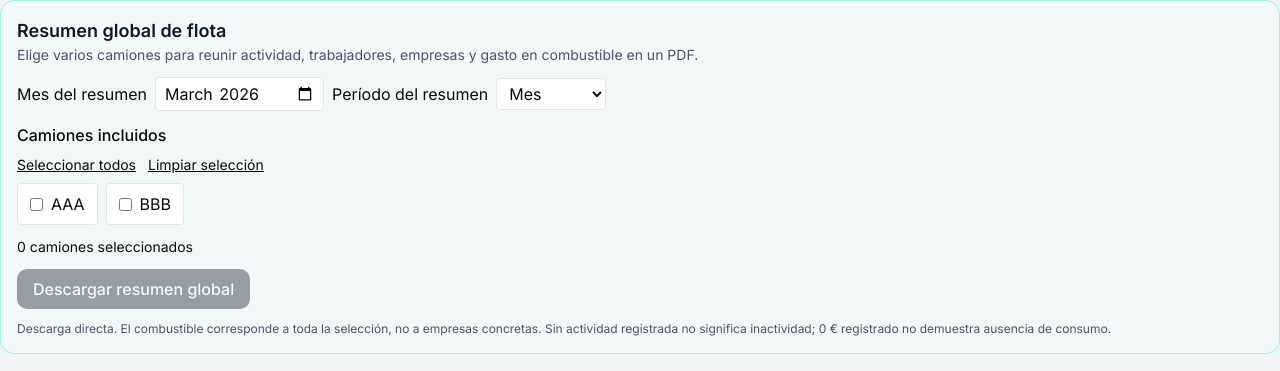
selects trucks independently, clears and generates repeated truck query parameters
This screenshot has width=1280, height=371.
Expected: the button "Descargar resumen global" is disabled, [17, 269, 250, 309]
Click the checkbox labelled "AAA".
click(36, 204)  # box [30, 198, 43, 210]
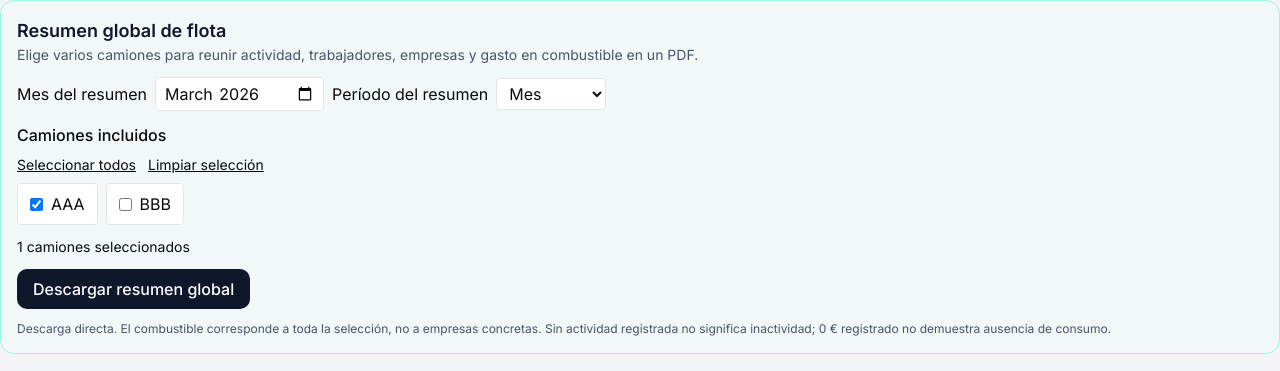
Result: the text "1 camiones seleccionados" is shown at [17, 238, 190, 255]
Click the button "Seleccionar todos".
click(76, 165)  # box [17, 155, 136, 175]
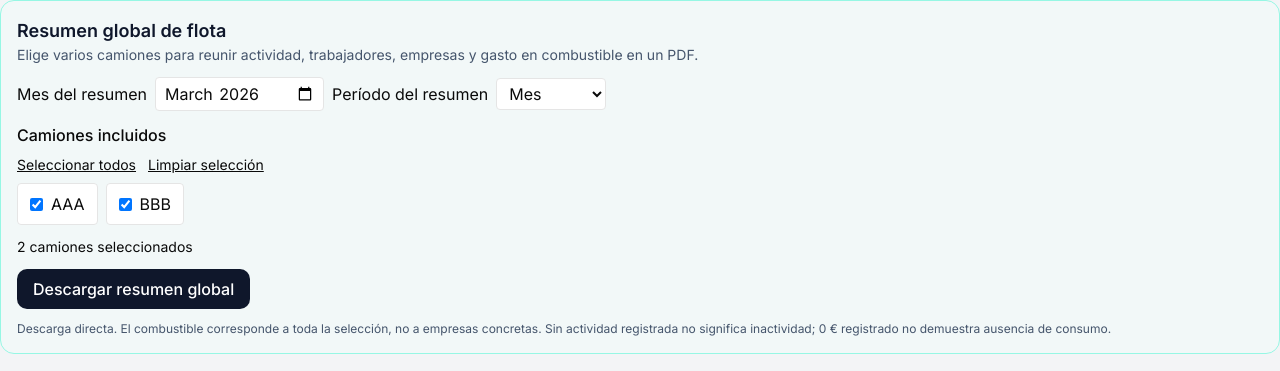
Select "Trimestre" in the dropdown labelled "Período del resumen" at {"x": 551, "y": 94}, box [496, 78, 606, 110]
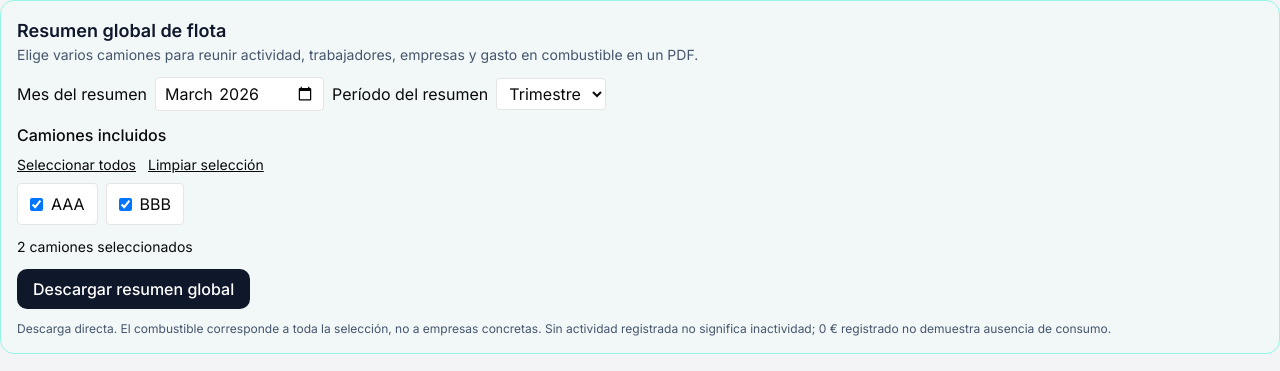
Replace the text in the field labelled "Mes del resumen" with "2026-06" at {"x": 240, "y": 94}, box [155, 77, 324, 111]
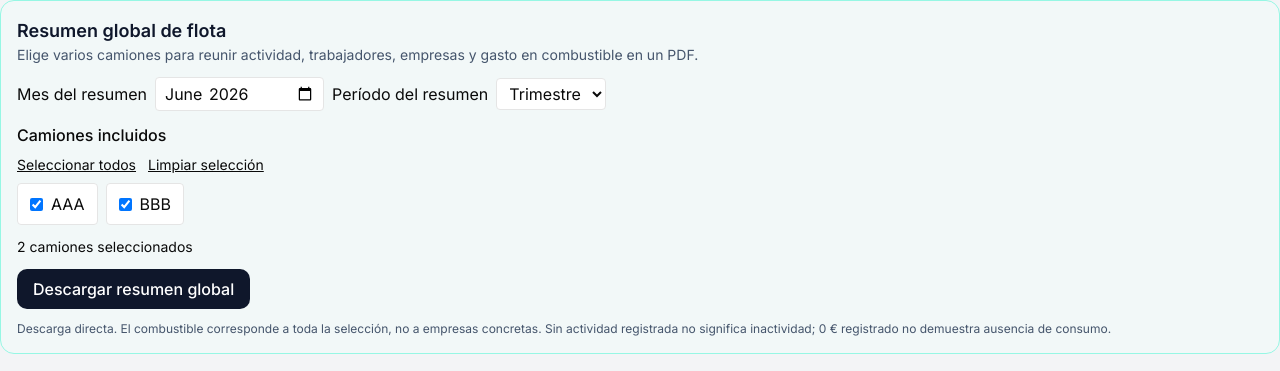
Click the button "Limpiar selección".
click(206, 165)  # box [148, 155, 264, 175]
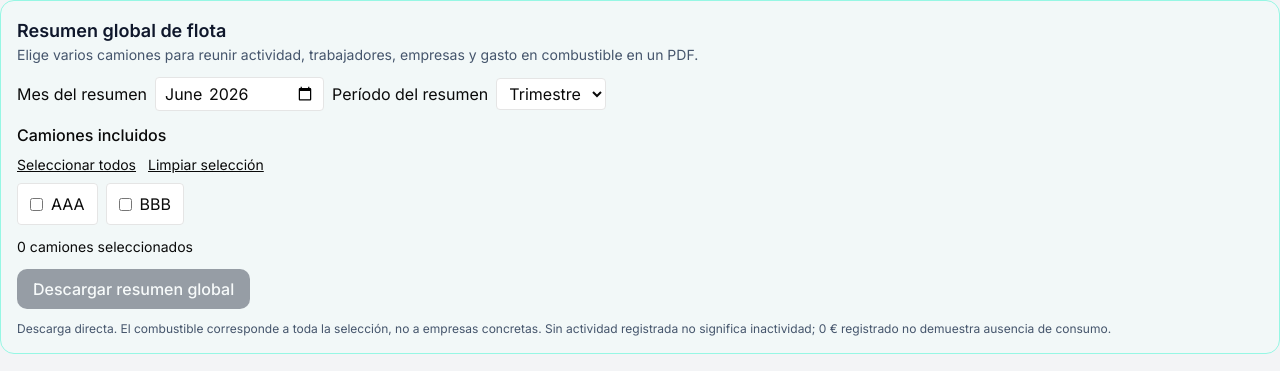
Result: the button "Descargar resumen global" is disabled at [17, 269, 250, 309]
